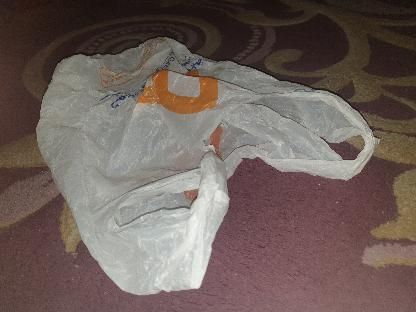Plastic Bag: (36, 38, 376, 294)
